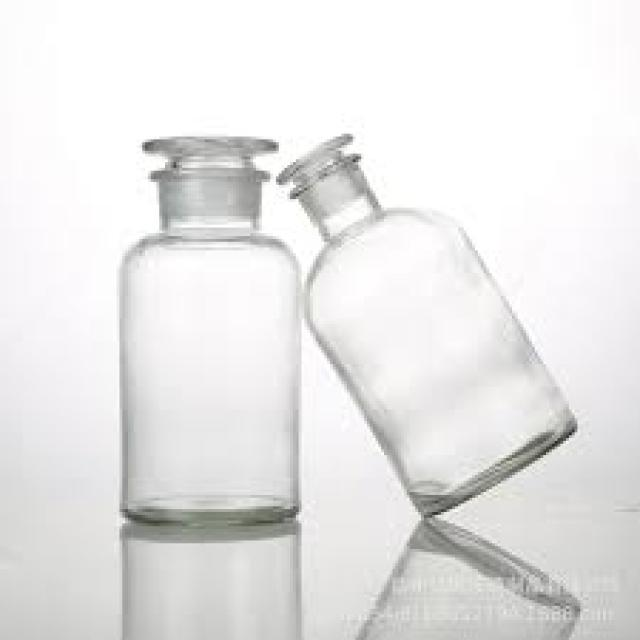glass: (276, 131, 572, 515), (117, 134, 302, 526)
